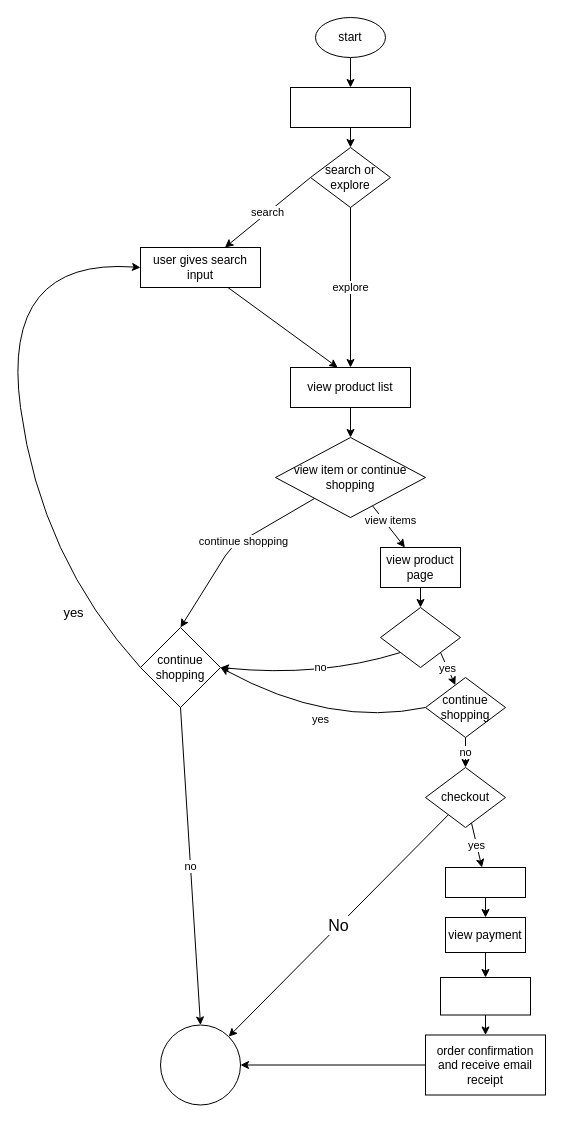
The diagram is 563 pixels wide and 1123 high, and some of its shapes have lost their labels. Here are the shapes that lost their labels. From the top down, the centre of each, then its label:
At (x=350, y=107): "enter website".
At (x=420, y=637): "add to cart".
At (x=485, y=882): "view cart".
At (x=485, y=995): "input payment info".
At (x=200, y=1064): "exit website".
